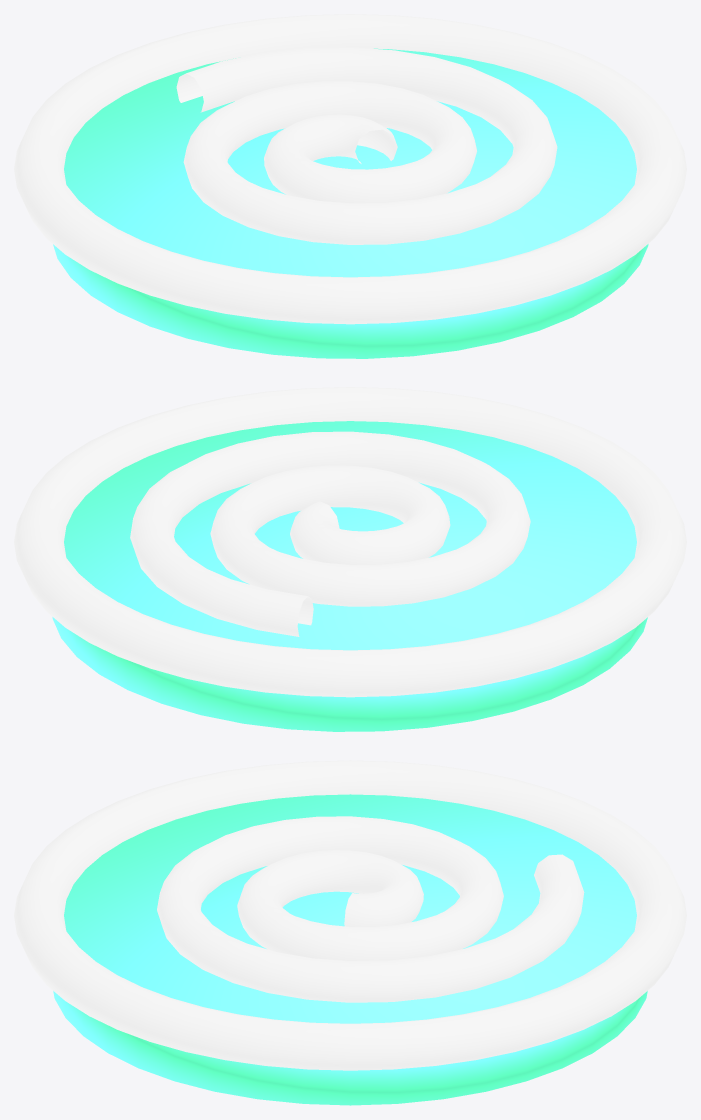
File: token_snegl.glb
The picture shows the model from 3 angles, top to bottom: view 1: azimuth 30°, elevation 25°; view 2: azimuth 150°, elevation 25°; view 3: azimuth 270°, elevation 25°; orthographic projection.
Visible parts, largest first — view 1: token_snegl, token_snegl_rim, token_snegl_spiral; view 2: token_snegl, token_snegl_rim, token_snegl_spiral; view 3: token_snegl, token_snegl_rim, token_snegl_spiral.
Part boxes in pixels (x1,y1,x2,y2): token_snegl: [53, 48, 648, 358]; token_snegl_rim: [14, 14, 686, 324]; token_snegl_spiral: [176, 47, 557, 244]; token_snegl: [52, 421, 647, 731]; token_snegl_rim: [14, 387, 686, 697]; token_snegl_spiral: [130, 431, 530, 636]; token_snegl: [53, 794, 647, 1105]; token_snegl_rim: [14, 760, 686, 1070]; token_snegl_spiral: [157, 816, 584, 1002].
Size of the model in its own units: 0.674 by 0.1059 by 0.674.
